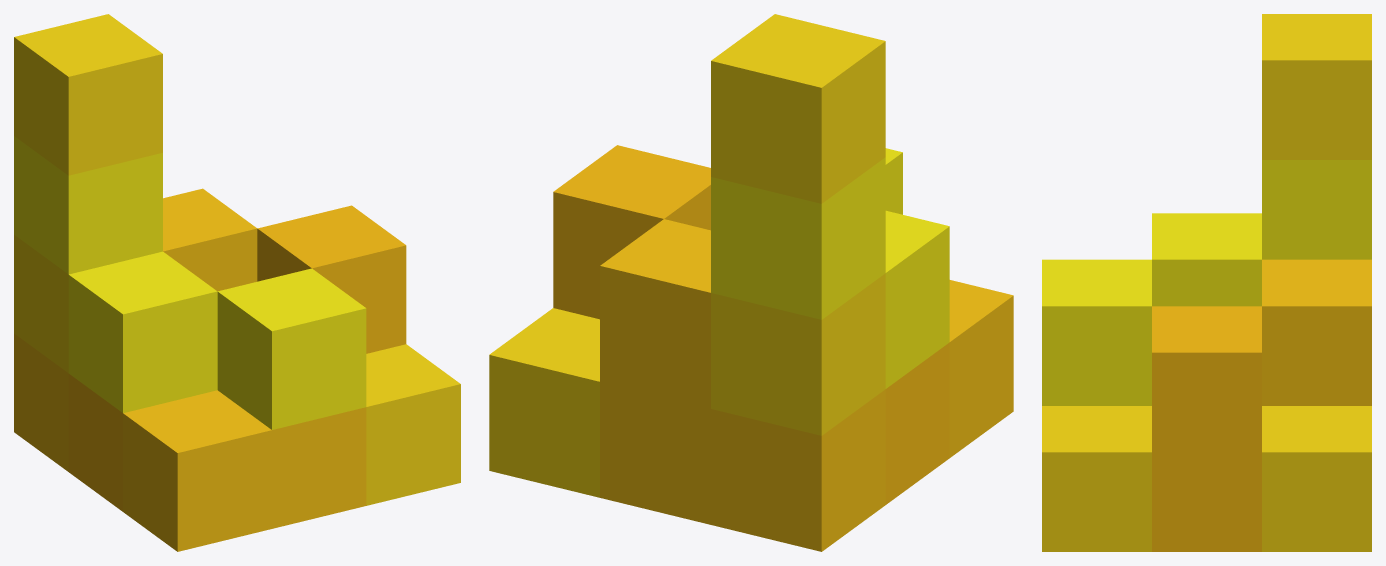
Rendered from wall_torch-5-flames.obj.
The picture shows the model from 3 angles, left to right: view 1: azimuth 30°, elevation 25°; view 2: azimuth 150°, elevation 25°; view 3: azimuth 270°, elevation 25°; orthographic projection. The views are drawn at different scales.
Parts seen in each view (by area): view 1: flames; view 2: flames; view 3: flames.
Part boxes in pixels (x1,y1,x2,y2): flames: (14,14,460,551); flames: (489,14,1013,551); flames: (1042,14,1371,551).
Size of the model in its own units: 0.3 by 0.4 by 0.3.
1 material, 1 textured.
